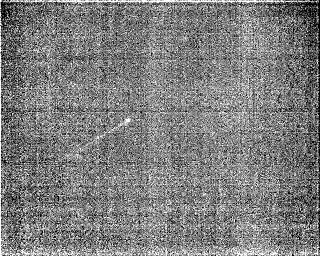AIRPLANE: (70, 117, 132, 158)
